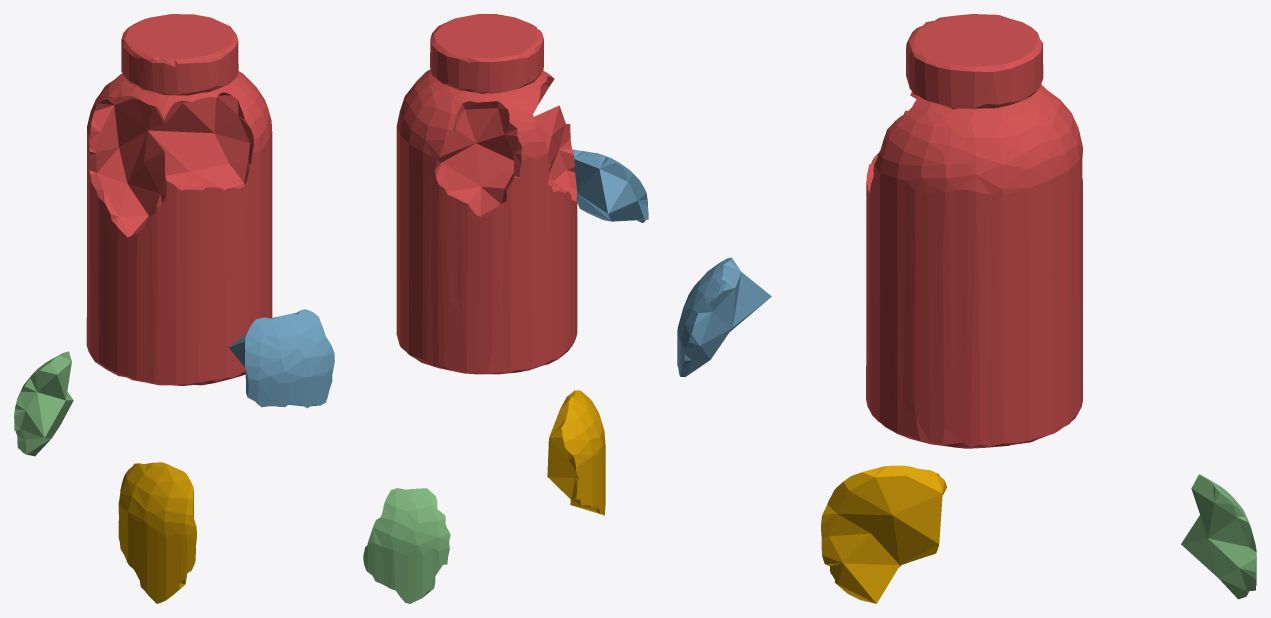
The model's file is mode_13_4pcs_transformed.glb.
The picture shows the model from 3 angles, left to right: view 1: azimuth 30°, elevation 25°; view 2: azimuth 150°, elevation 25°; view 3: azimuth 270°, elevation 25°; orthographic projection. The views are drawn at different scales.
Parts seen in each view (by area): view 1: piece_1.obj, piece_0.obj, piece_2.obj, piece_3.obj; view 2: piece_1.obj, piece_3.obj, piece_0.obj, piece_2.obj; view 3: piece_1.obj, piece_0.obj, piece_2.obj, piece_3.obj.
Boxes of the visible parts, x1=… form: piece_1.obj: x1=86, y1=14, x2=272, y2=385; piece_0.obj: x1=118, y1=462, x2=196, y2=603; piece_2.obj: x1=229, y1=309, x2=334, y2=408; piece_3.obj: x1=14, y1=351, x2=73, y2=456; piece_1.obj: x1=396, y1=14, x2=577, y2=374; piece_3.obj: x1=363, y1=488, x2=450, y2=603; piece_0.obj: x1=547, y1=390, x2=605, y2=515; piece_2.obj: x1=572, y1=149, x2=648, y2=222; piece_1.obj: x1=866, y1=14, x2=1082, y2=448; piece_0.obj: x1=821, y1=465, x2=946, y2=603; piece_2.obj: x1=677, y1=257, x2=771, y2=376; piece_3.obj: x1=1181, y1=474, x2=1256, y2=599.
Bounding box in the file's own units: 0.5393 × 1.64 × 1.44.
